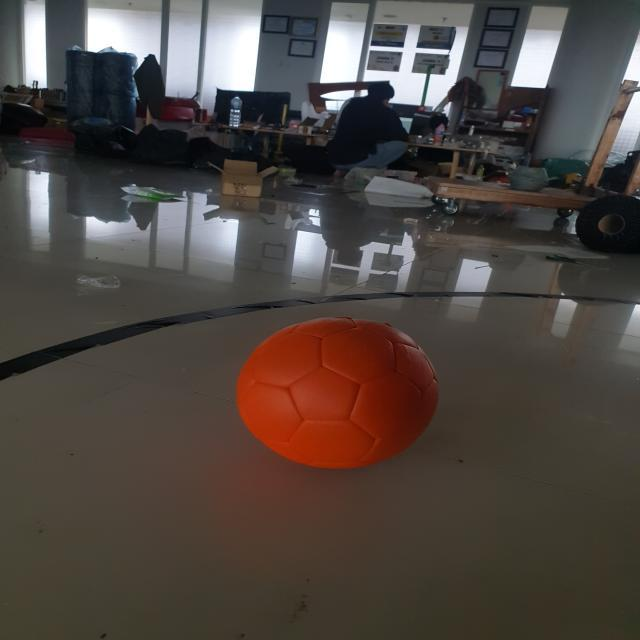bola: (215, 306, 475, 484)
